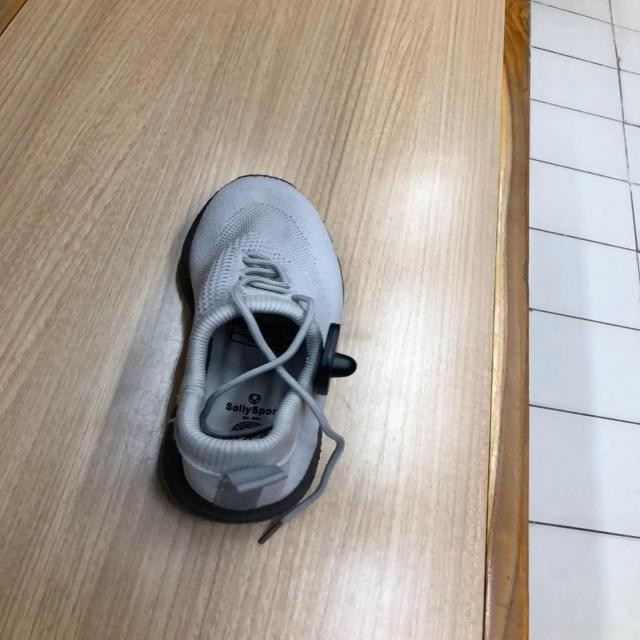shoe: (156, 174, 357, 523)
